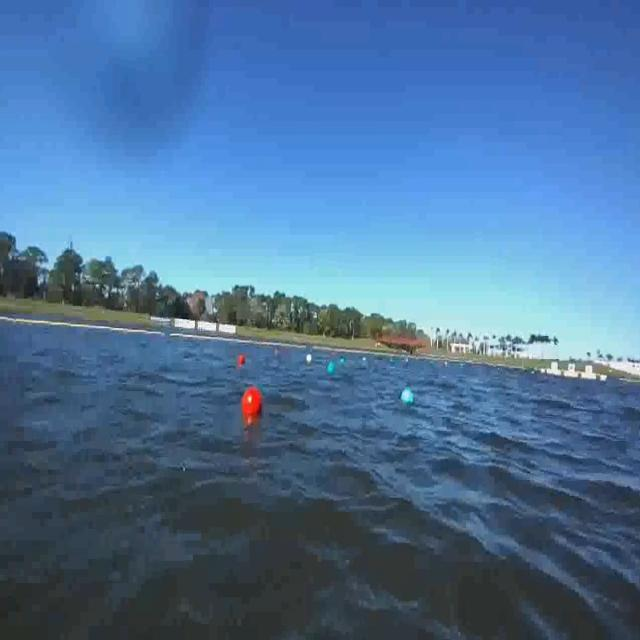green-buoy: (399, 384, 415, 410), (327, 360, 335, 374)
red-buoy: (242, 389, 260, 418), (240, 354, 247, 366)
yellow-buoy: (305, 348, 313, 368)
